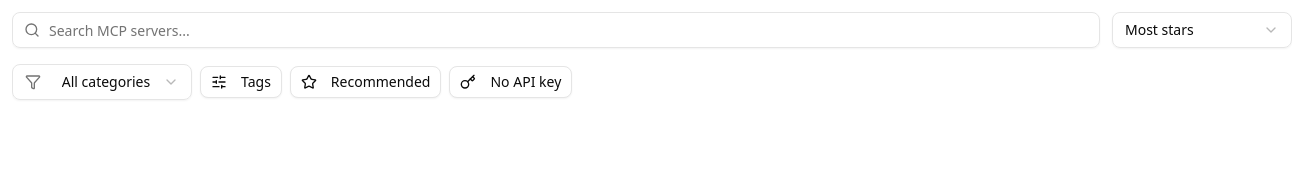
Test: MarketplaceSearchFilter › Search functionality › shows clear button when search has value
Type "test" into the field with placeholder "Search MCP servers...".
click(556, 30); type("test")  # box [12,12,1100,48]
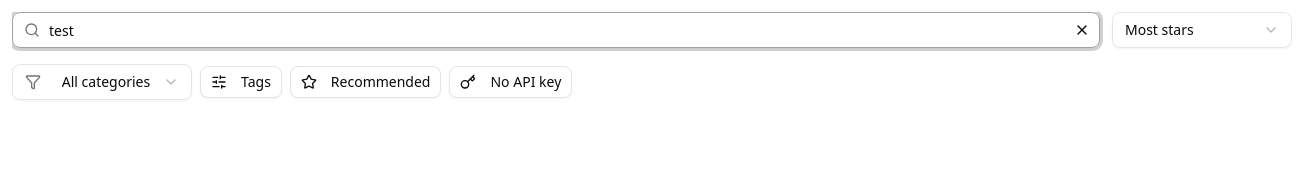
expect the 1st button is shown: met, box [1068,16,1096,44]
